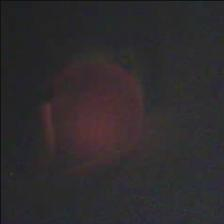fertile: (45, 58, 146, 162)
